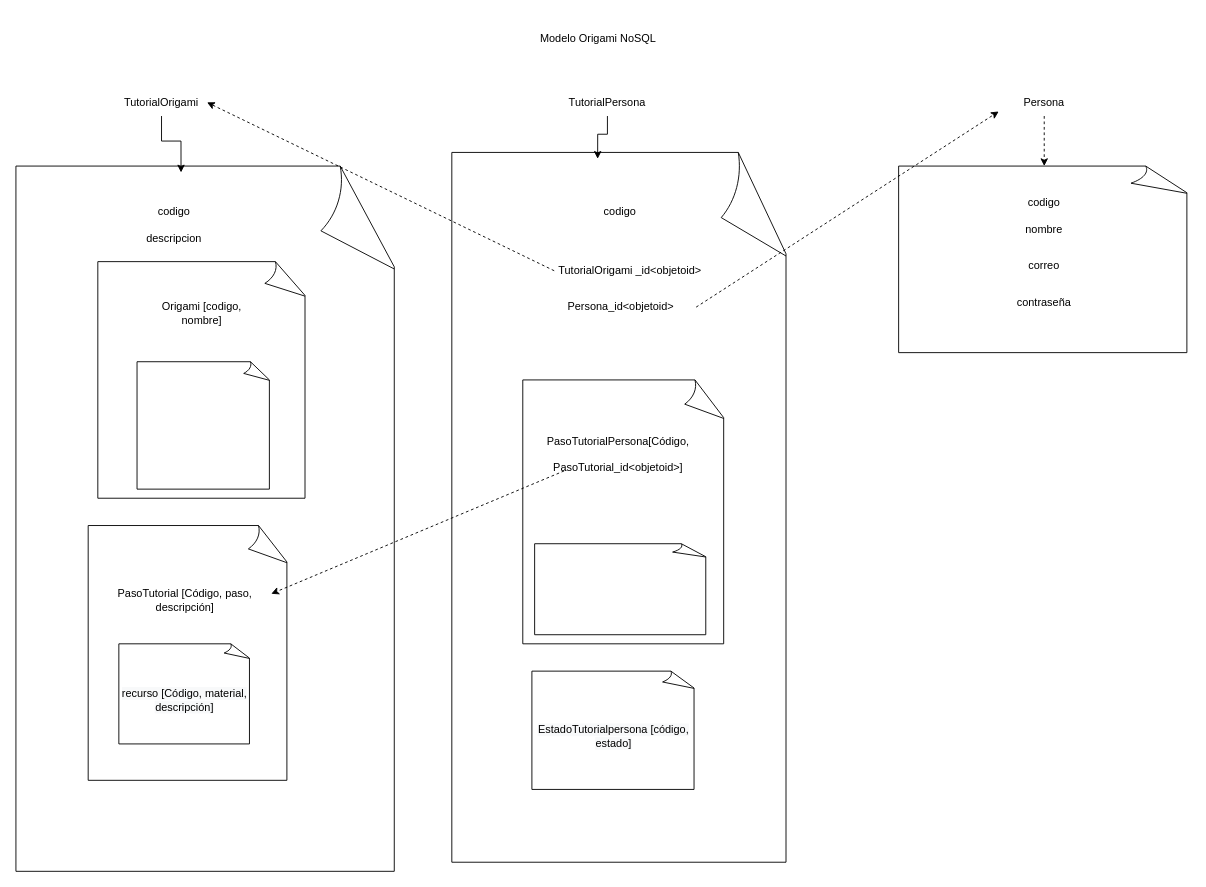
Image size: 1206x887. Some labels were removed from this diagram. The shapes that lost their labels are listed below. From the top down, each one's centre as x and y in pixels, then its label:
At (x=203, y=425): "TipoDeOrigami [codigo, nombre]".
At (x=621, y=589): "EstadoPasopersona [codigo , estado]".
